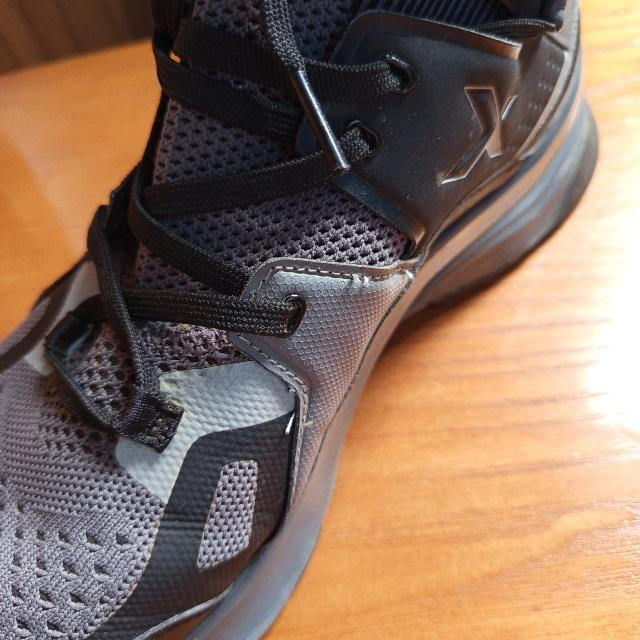broken: (349, 268, 373, 288)
